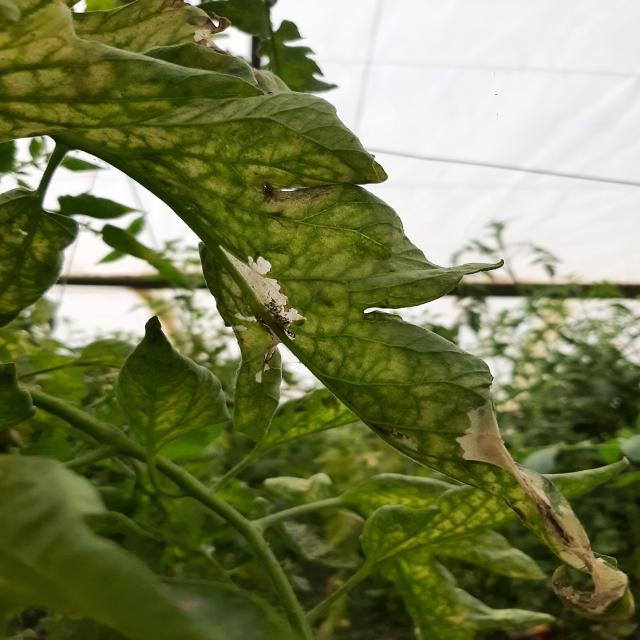Tuta absoluta: (222, 232, 308, 335), (447, 401, 517, 486)
